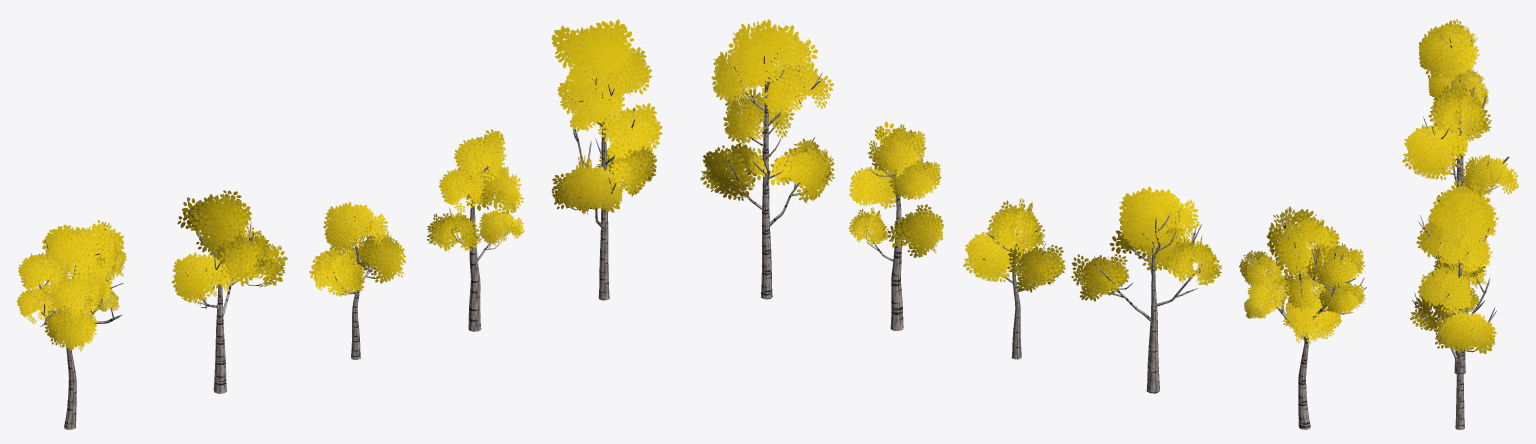
File: tree-birch.glb
3 renders of one model, left to right at view 1: azimuth 30°, elevation 25°; view 2: azimuth 150°, elevation 25°; view 3: azimuth 270°, elevation 25°, orthographic. The views are drawn at different scales.
Parts seen in each view (by area): view 1: BirchTree_2, BirchTree_3, BirchTree_5, BirchTree_1, BirchTree_4; view 2: BirchTree_2, BirchTree_3, BirchTree_5, BirchTree_1, BirchTree_4; view 3: BirchTree_2, BirchTree_5, BirchTree_3, BirchTree_1.
Part boxes in pixels (x1,y1,x2,y2): BirchTree_2: [551, 19, 662, 300]; BirchTree_3: [17, 220, 126, 429]; BirchTree_5: [171, 190, 287, 393]; BirchTree_1: [427, 129, 524, 331]; BirchTree_4: [309, 201, 406, 359]; BirchTree_2: [700, 19, 834, 299]; BirchTree_3: [1239, 206, 1366, 429]; BirchTree_5: [1071, 186, 1221, 393]; BirchTree_1: [848, 121, 943, 330]; BirchTree_4: [963, 198, 1065, 359]; BirchTree_2: [1410, 178, 1498, 429]; BirchTree_5: [1402, 81, 1518, 196]; BirchTree_3: [1418, 19, 1488, 190]; BirchTree_1: [1425, 201, 1486, 374].
Bounding box in the file's own units: 18.56 × 7.57 × 3.51.
Materials: 2 (2 with a texture image).
